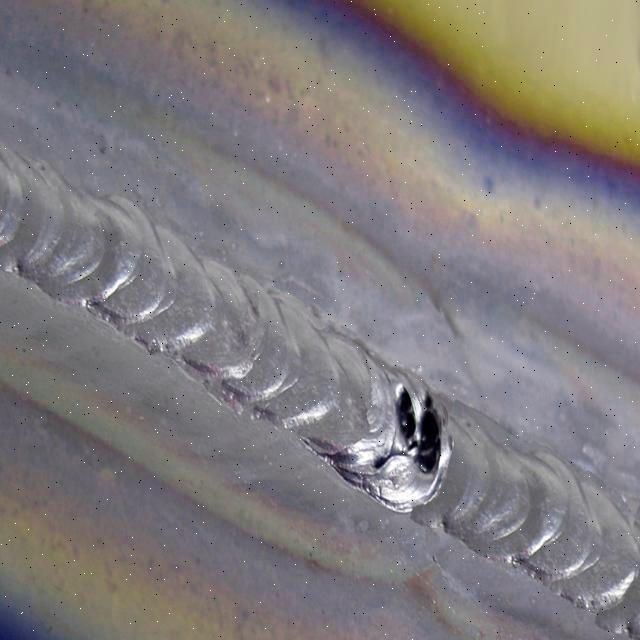Porosity: (390, 376, 447, 484)
